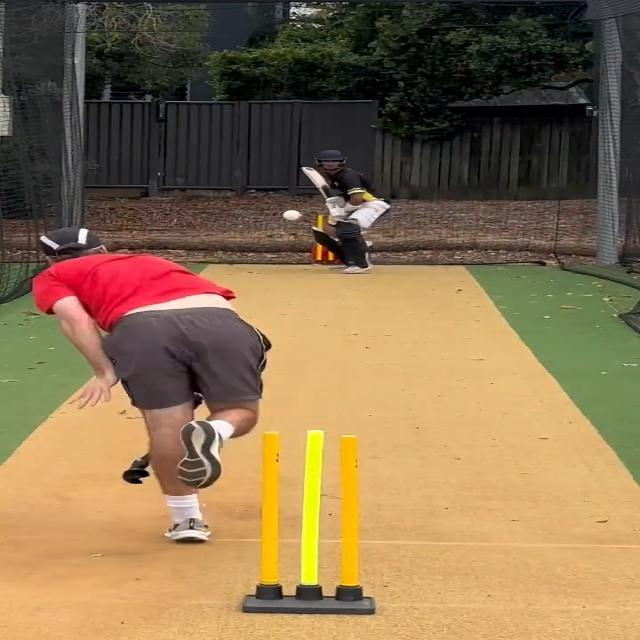ball: (280, 208, 304, 223)
stump: (240, 428, 375, 615)
